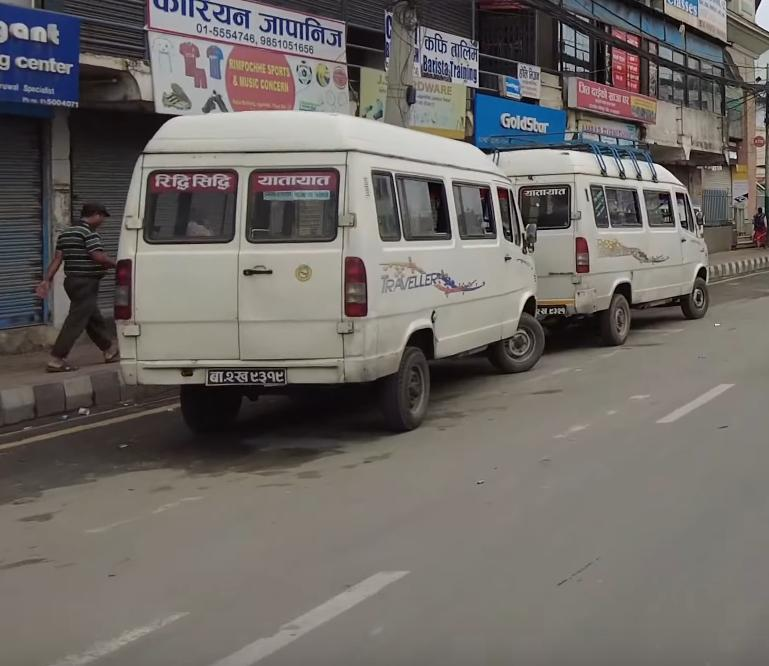micro_bus: (100, 107, 557, 445), (476, 130, 723, 353)
